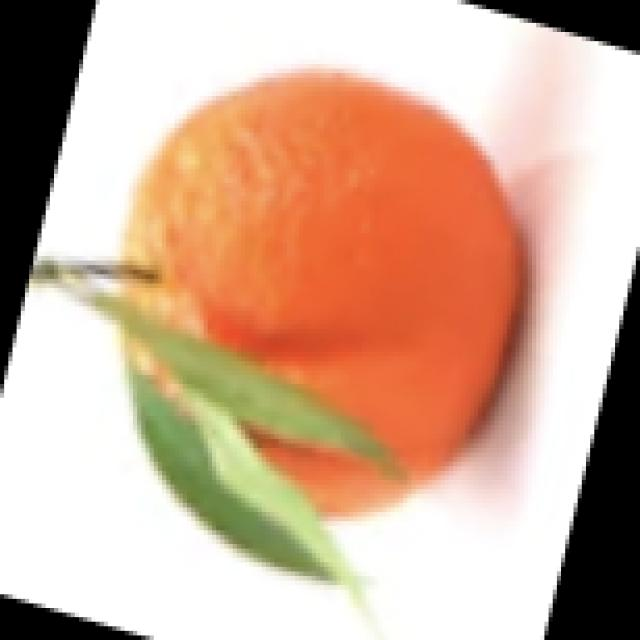fresh: (27, 77, 532, 598)
